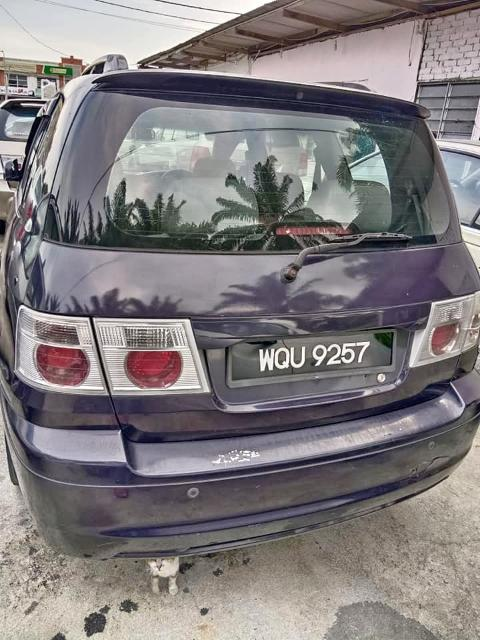License_Plate: (239, 336, 383, 374)
car: (10, 71, 480, 557)
